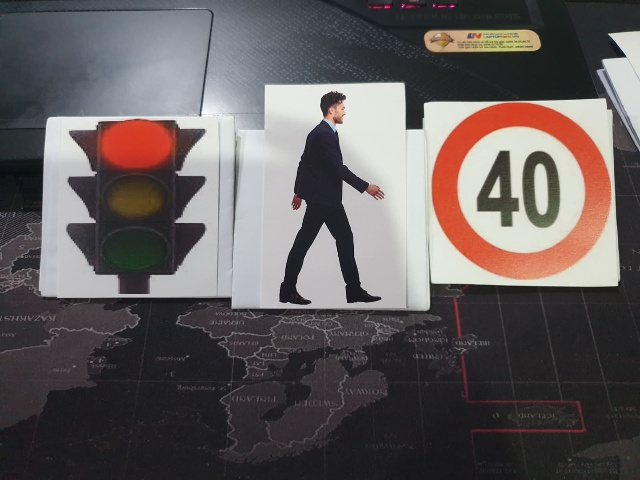Limit 40: (429, 107, 613, 277)
Person: (263, 86, 392, 307)
Red: (49, 122, 212, 298)
